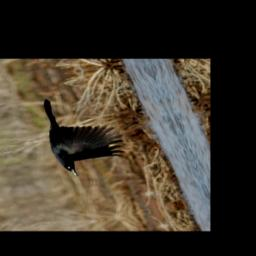Crow: (29, 89, 138, 180)
